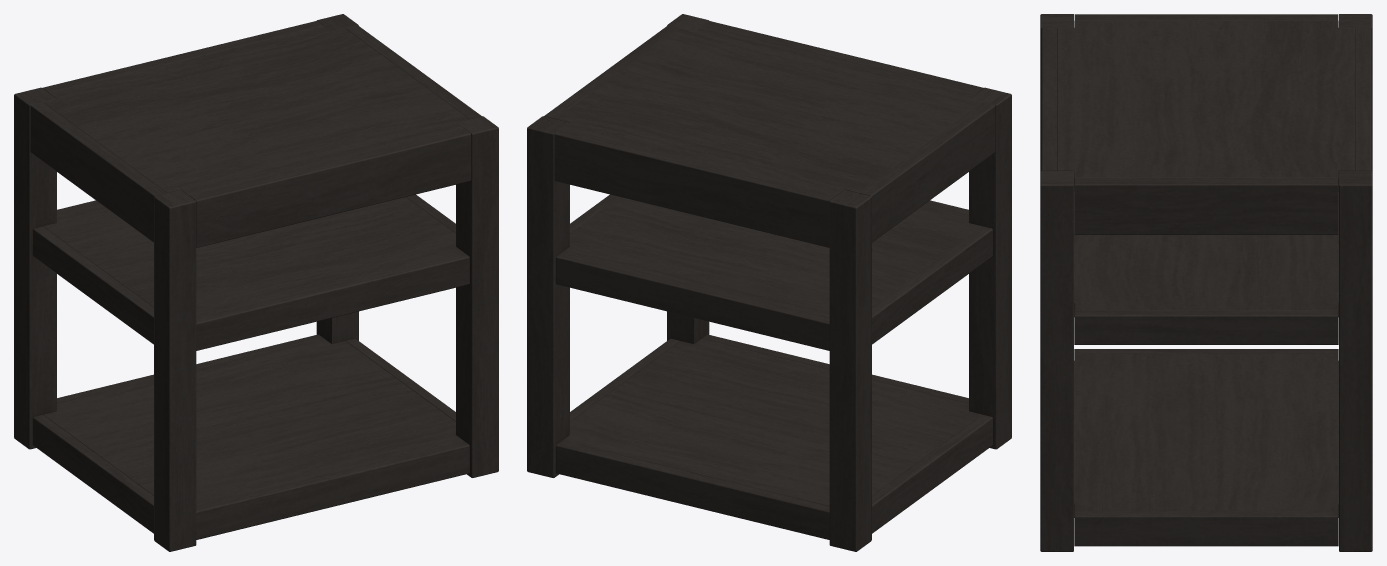
Rendered from black.glb.
3 views of the same model, side by side, from view 1: azimuth 30°, elevation 25°; view 2: azimuth 150°, elevation 25°; view 3: azimuth 270°, elevation 25° (orthographic). The views are drawn at different scales.
Parts seen in each view (by area): view 1: krosna; view 2: krosna; view 3: krosna.
Boxes of the visible parts, <box> form: krosna: <box>14,14,498,551</box>; krosna: <box>527,14,1011,551</box>; krosna: <box>1040,14,1372,551</box>.
Bounding box in the file's own units: 0.55 × 0.5507 × 0.45.
1 material, 1 textured.
